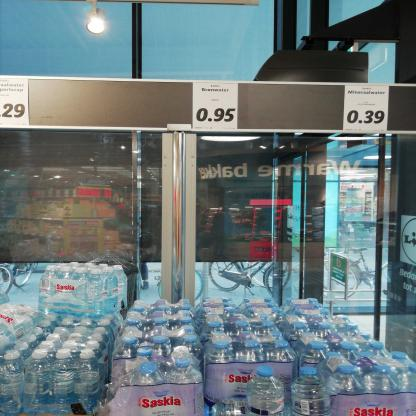prtg: (344, 87, 390, 132), (194, 84, 239, 130), (1, 80, 30, 127)
